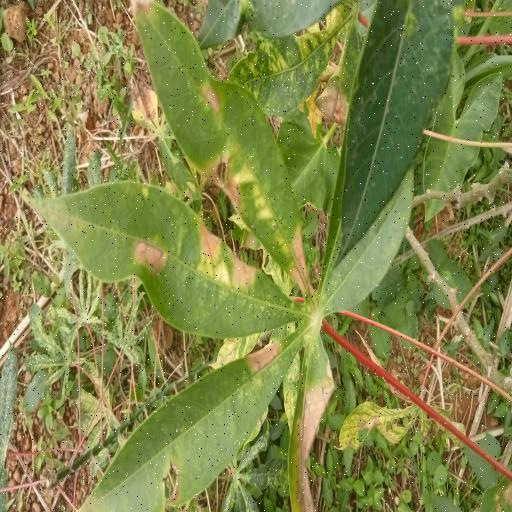Cassava_Root_Rot: (50, 0, 414, 512)
